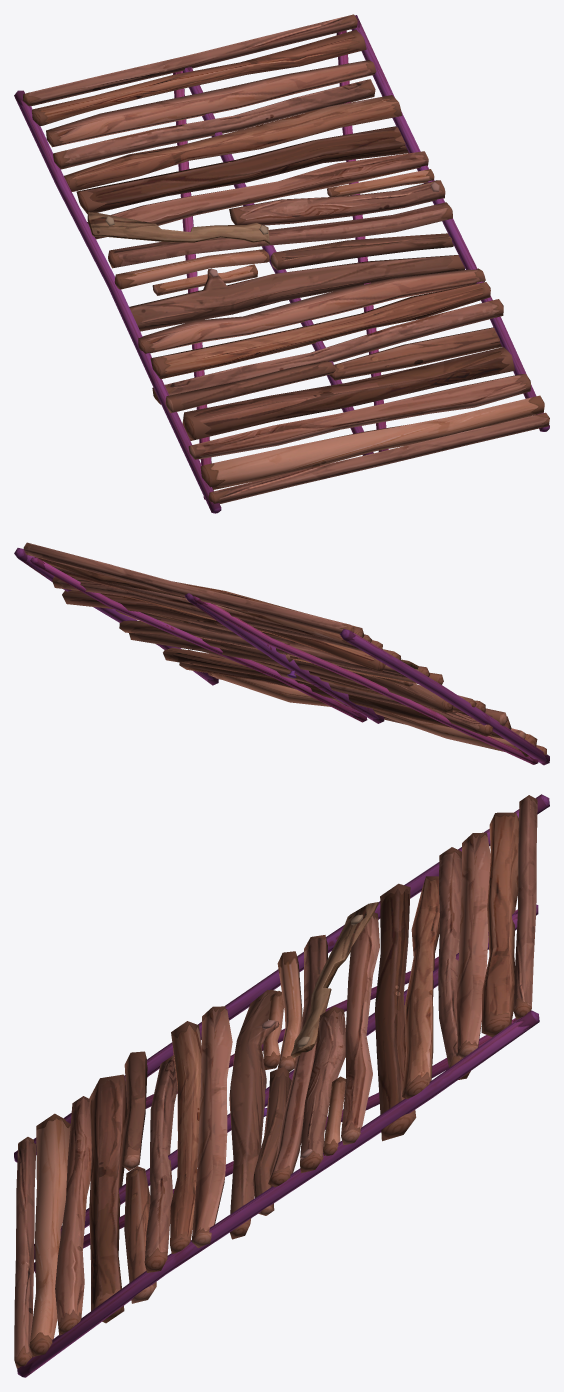
File: buildStair.glb
The picture shows the model from 3 angles, top to bottom: view 1: azimuth 30°, elevation 25°; view 2: azimuth 150°, elevation 25°; view 3: azimuth 270°, elevation 25°; orthographic projection. The views are drawn at different scales.
Parts seen in each view (by area): view 1: PBW_W1_StairW; view 2: PBW_W1_StairW; view 3: PBW_W1_StairW.
Boxes of the visible parts, left/top/right/bottom form: PBW_W1_StairW: left=14, top=14, right=549, bottom=513; PBW_W1_StairW: left=14, top=542, right=549, bottom=765; PBW_W1_StairW: left=14, top=794, right=549, bottom=1377.
Bounding box in the file's own units: 5.15 × 4.02 × 5.24.
1 material, 1 textured.
